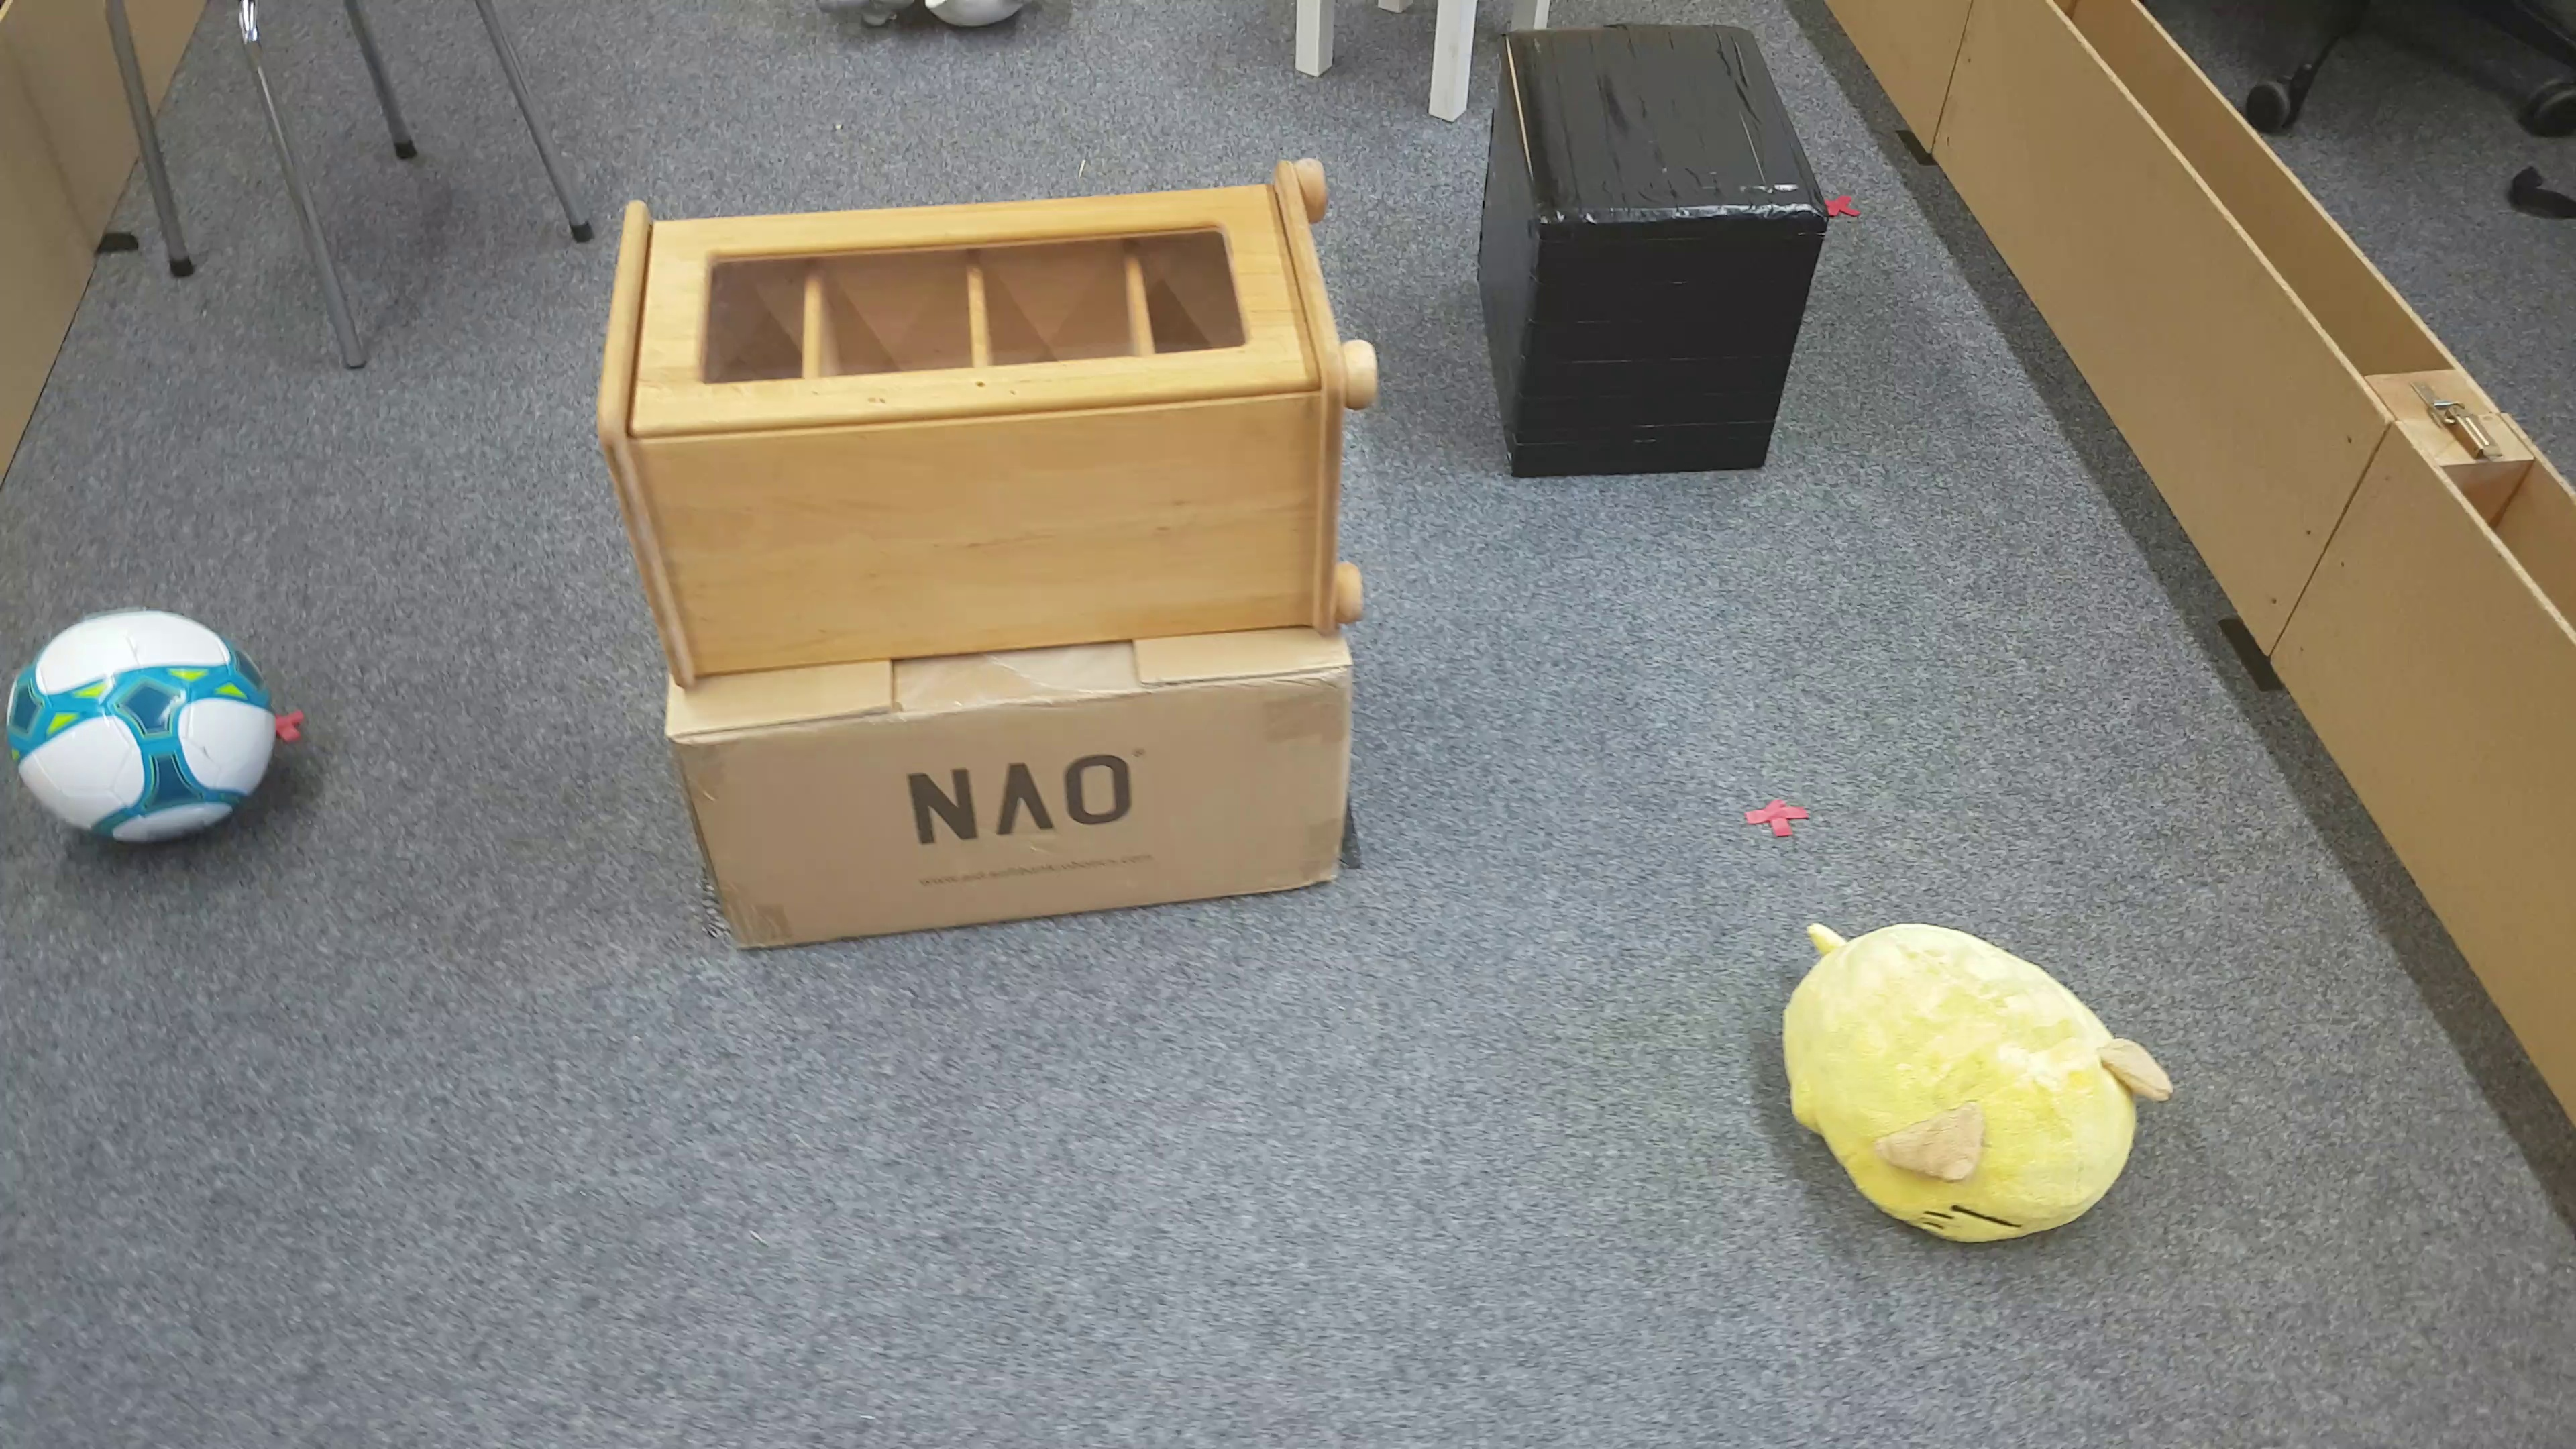grasp: (1780, 909, 2169, 1238), (833, 2, 1046, 42)
kick: (7, 612, 285, 855)
push: (1461, 25, 1824, 481)
